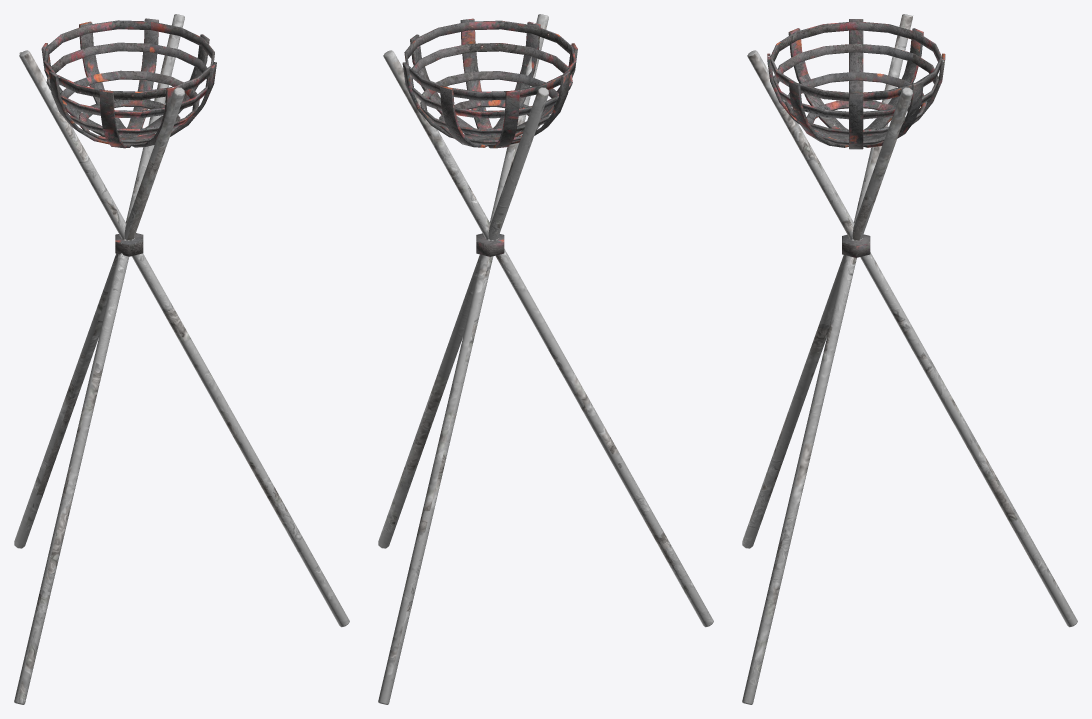
Rendered from torch holder.fbx.
3 renders of one model, left to right at view 1: azimuth 30°, elevation 25°; view 2: azimuth 150°, elevation 25°; view 3: azimuth 270°, elevation 25°, orthographic.
Parts seen in each view (by area): view 1: Torch_holder; view 2: Torch_holder; view 3: Torch_holder.
Part boxes in pixels (x1,y1,x2,y2): Torch_holder: [14, 14, 349, 704]; Torch_holder: [378, 14, 713, 704]; Torch_holder: [742, 14, 1077, 704].
Size of the model in its own units: 319 by 524 by 277.
2 materials, 2 textured.
